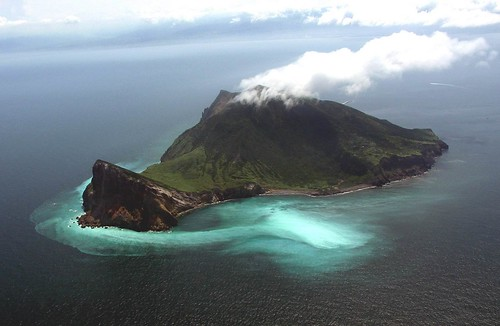turtleIslandTop: (87, 79, 453, 242)
